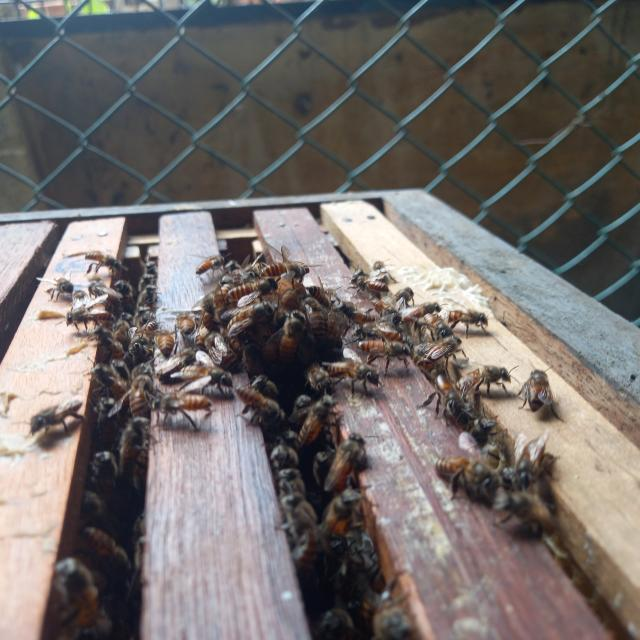honeybee: (83, 300, 208, 399), (54, 557, 103, 636), (83, 526, 130, 588), (335, 531, 385, 589), (493, 488, 553, 536), (435, 454, 495, 500), (428, 372, 473, 430), (326, 431, 366, 495), (86, 360, 130, 418), (512, 435, 556, 491), (29, 398, 83, 440), (236, 385, 283, 432), (106, 370, 152, 418), (359, 334, 410, 375), (146, 390, 212, 421), (178, 365, 231, 403), (371, 596, 415, 640), (326, 482, 360, 538), (325, 361, 379, 396), (119, 415, 149, 478), (302, 392, 332, 452), (335, 294, 375, 338), (455, 364, 505, 399), (310, 425, 336, 490), (421, 312, 461, 352), (522, 368, 557, 413), (418, 337, 463, 371), (274, 494, 315, 531), (222, 303, 274, 332), (90, 448, 120, 498), (347, 268, 390, 302), (304, 355, 336, 399), (157, 348, 194, 386), (313, 605, 352, 640), (205, 335, 238, 375), (291, 525, 321, 569), (445, 307, 488, 337), (66, 292, 100, 328), (266, 440, 298, 478), (257, 261, 309, 284), (224, 279, 276, 302), (280, 308, 302, 362), (400, 302, 440, 331), (370, 296, 400, 333), (302, 296, 326, 340), (471, 413, 500, 448), (84, 491, 109, 531), (88, 281, 121, 311), (278, 468, 304, 505), (92, 328, 122, 360), (253, 373, 281, 407), (280, 282, 308, 314), (37, 276, 74, 300), (214, 283, 242, 314), (65, 309, 115, 326), (83, 254, 121, 276), (127, 330, 153, 362), (193, 252, 225, 276), (222, 268, 260, 288), (308, 284, 337, 310), (367, 262, 394, 289), (152, 329, 176, 358), (197, 313, 216, 348), (173, 311, 197, 338), (203, 296, 220, 334), (290, 389, 309, 416), (397, 280, 413, 310), (114, 278, 132, 304), (225, 259, 248, 279), (116, 318, 132, 346), (140, 287, 158, 307), (138, 275, 159, 292), (136, 311, 157, 327), (120, 312, 134, 329), (146, 260, 156, 274)
